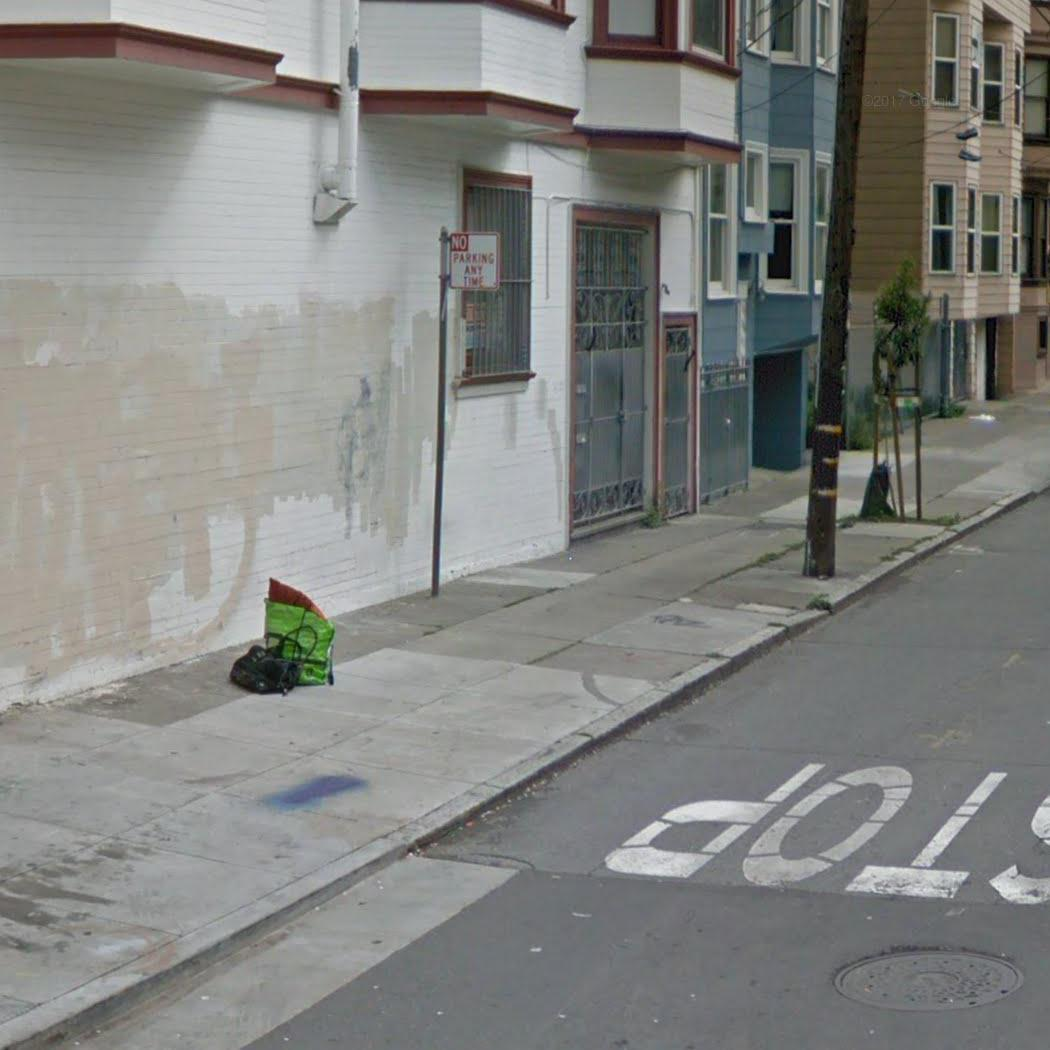No Parking Anytime: (447, 230, 504, 294)
